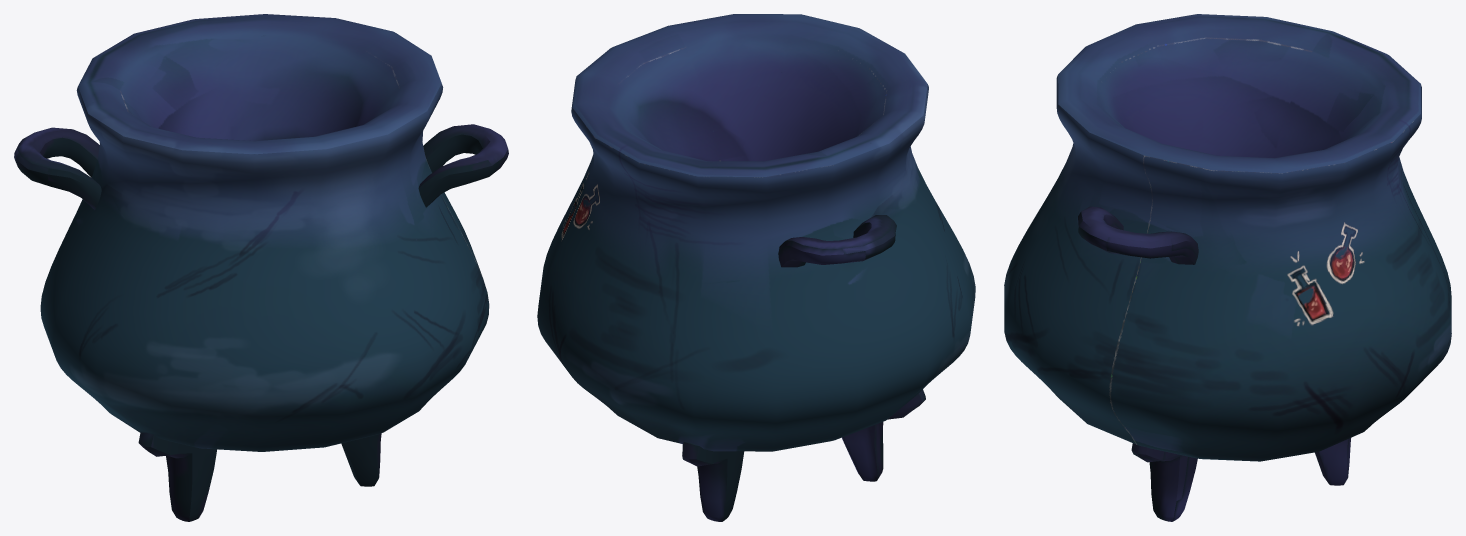
The model's file is Cauldron Shaking Animation_R1.fbx.
3 renders of one model, left to right at view 1: azimuth 30°, elevation 25°; view 2: azimuth 150°, elevation 25°; view 3: azimuth 270°, elevation 25°, orthographic. The views are drawn at different scales.
Parts seen in each view (by area): view 1: CauldronBody; view 2: CauldronBody; view 3: CauldronBody.
Part boxes in pixels (box(x1,y1,x2,y2)): CauldronBody: box(14, 14, 508, 521); CauldronBody: box(537, 14, 975, 521); CauldronBody: box(1004, 14, 1451, 521).
Bounding box in the file's own units: 79 × 79.34 × 78.9.
